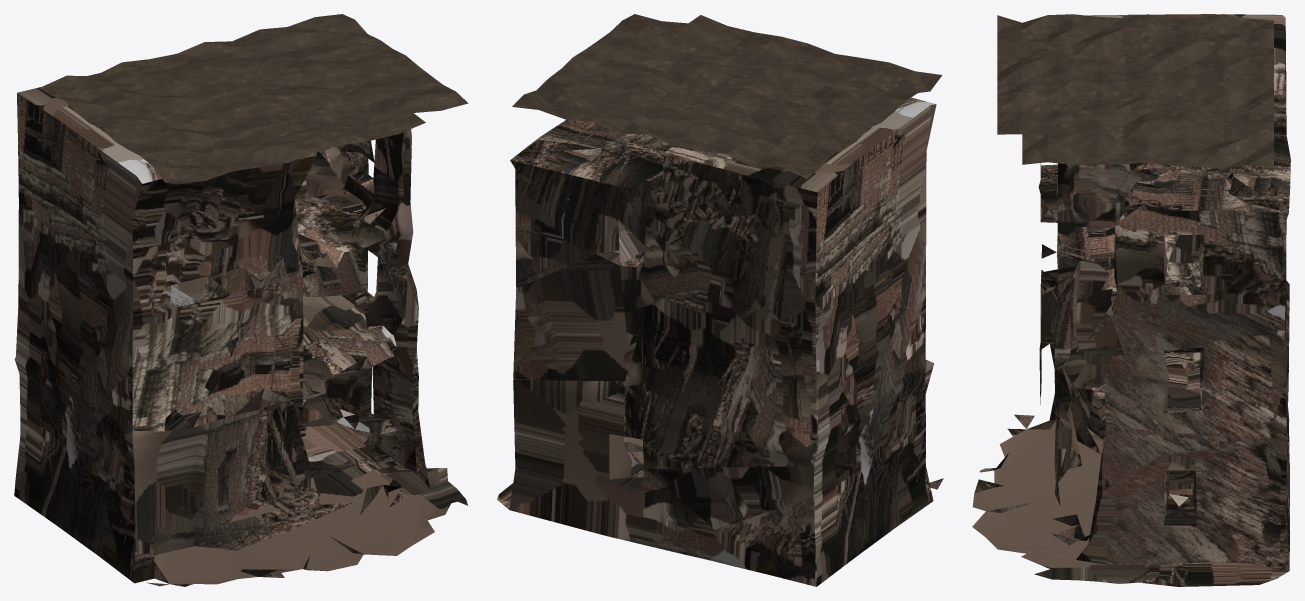
The model's file is ruin_two.glb.
3 renders of one model, left to right at view 1: azimuth 30°, elevation 25°; view 2: azimuth 150°, elevation 25°; view 3: azimuth 270°, elevation 25°, orthographic. The views are drawn at different scales.
Size of the model in its own units: 1.78 by 2.04 by 1.41.
Materials: 1 (1 with a texture image).
